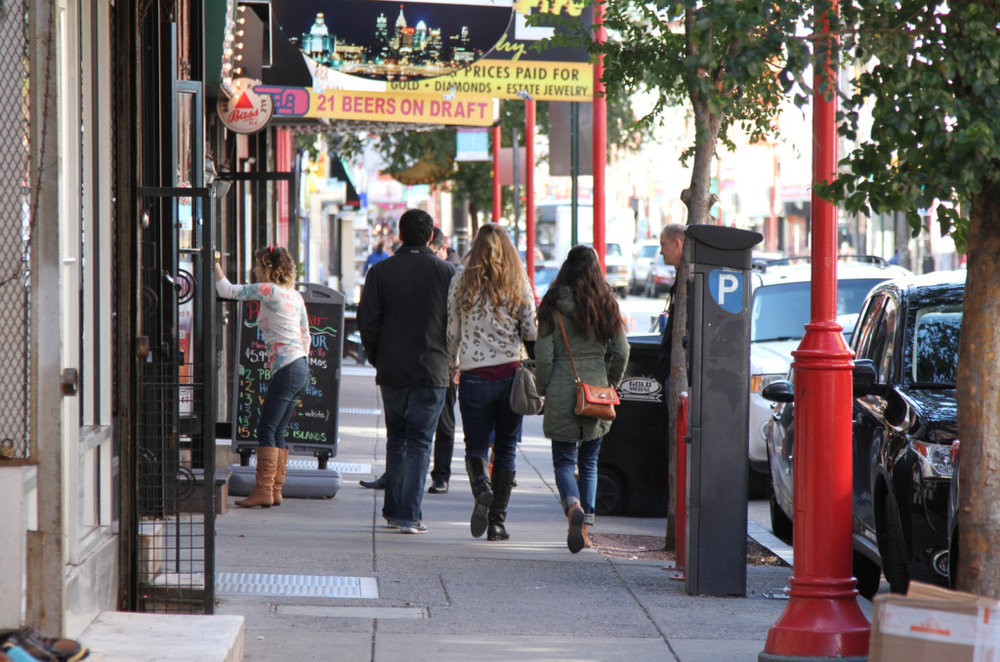person: (527, 240, 640, 558), (352, 201, 454, 542), (450, 208, 537, 547), (217, 239, 311, 509), (643, 226, 703, 317)
